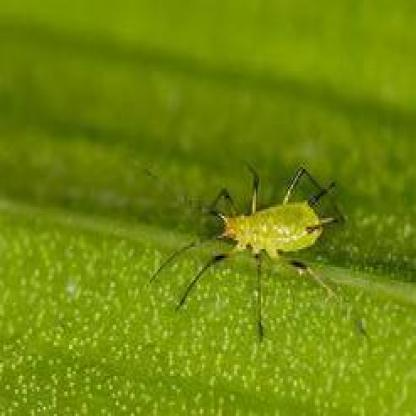aphid: (176, 140, 345, 338)
